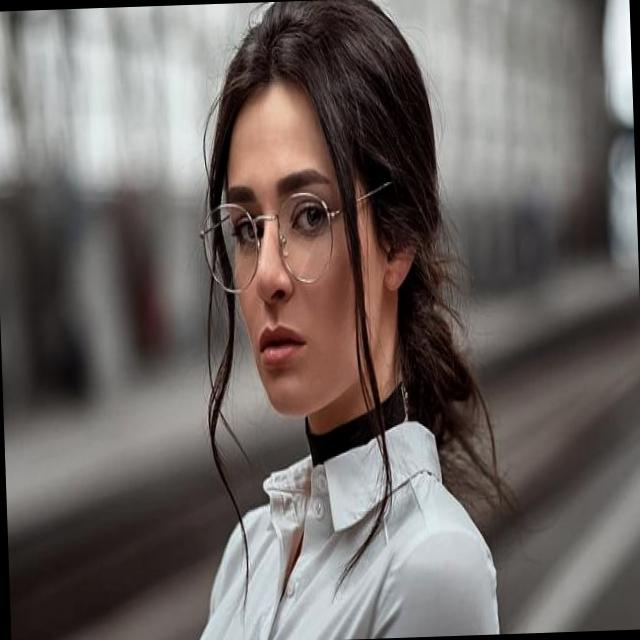glasses: (198, 177, 396, 294)
